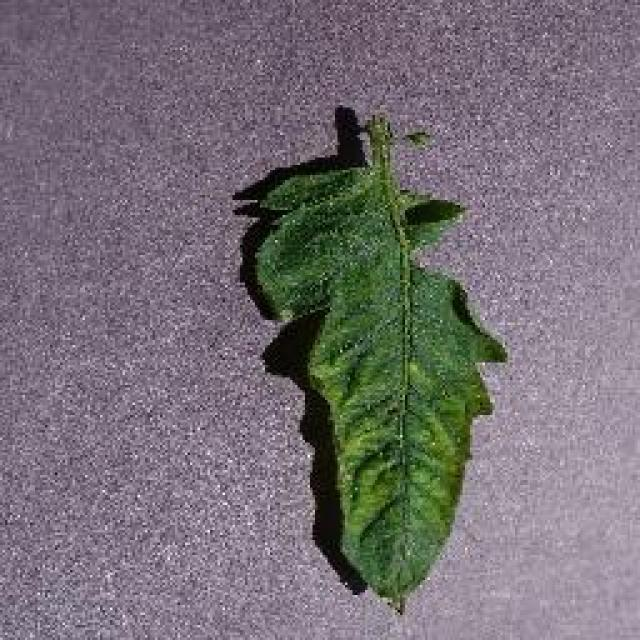Tomato spider mites leaf: (254, 135, 504, 613)
